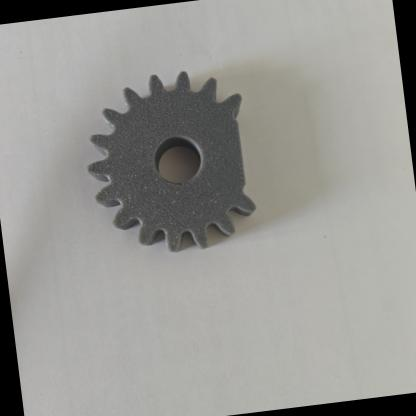defect: (188, 94, 286, 230)
gear: (52, 44, 326, 300)
